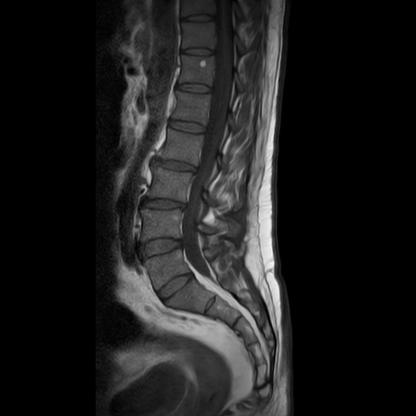Degenerative Disc Diseaserotation: (149, 157, 201, 177), (142, 196, 188, 215)
Disc Bulgerotation: (150, 157, 201, 176), (143, 235, 183, 259), (142, 196, 188, 214)
